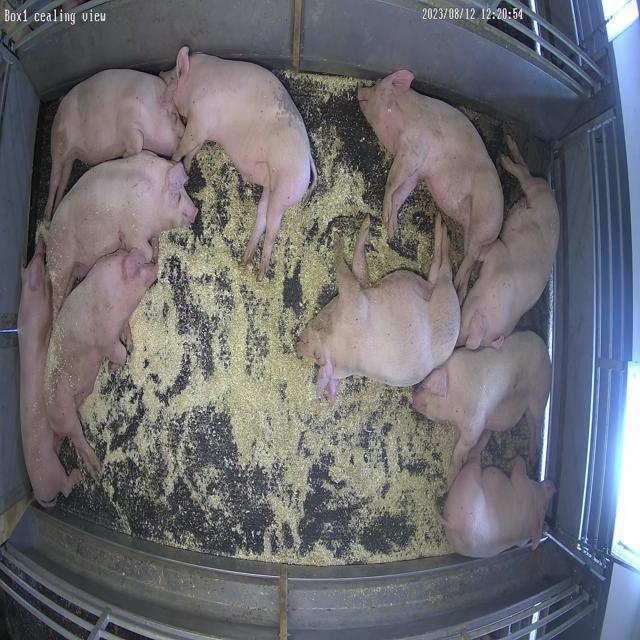Dirt: (468, 108, 551, 216), (484, 417, 543, 480)
Pig: (358, 69, 505, 300), (173, 46, 316, 278), (297, 215, 462, 402), (45, 249, 158, 476), (46, 151, 197, 316), (459, 136, 561, 350), (413, 333, 553, 486), (44, 69, 184, 220), (17, 235, 80, 508), (444, 432, 557, 559)
